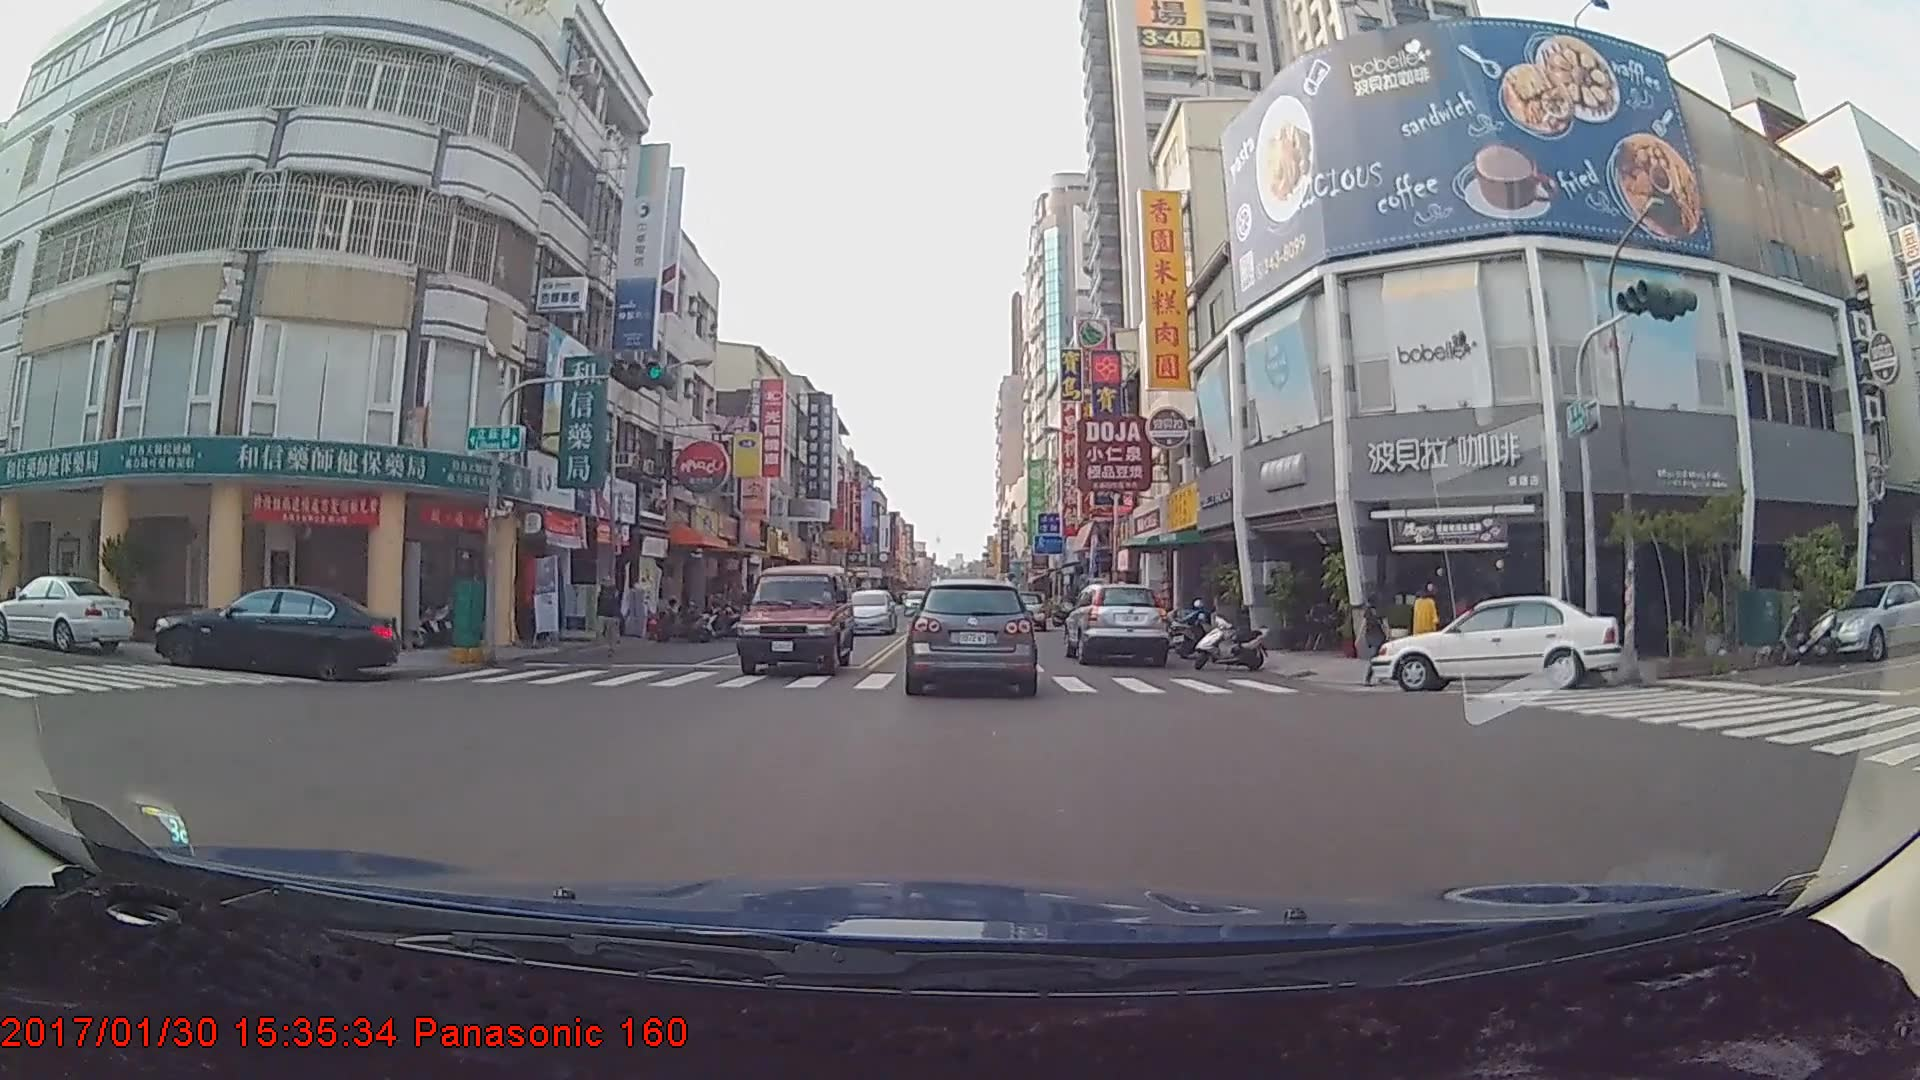pedestrian: (1363, 592, 1396, 689), (1413, 583, 1443, 668), (595, 573, 624, 654)
vehicle: (1368, 593, 1626, 691), (151, 577, 398, 678), (907, 580, 1036, 693), (731, 562, 854, 676), (0, 572, 133, 652), (1062, 579, 1171, 666), (1809, 579, 1920, 660), (840, 587, 897, 634), (1001, 588, 1046, 630)
